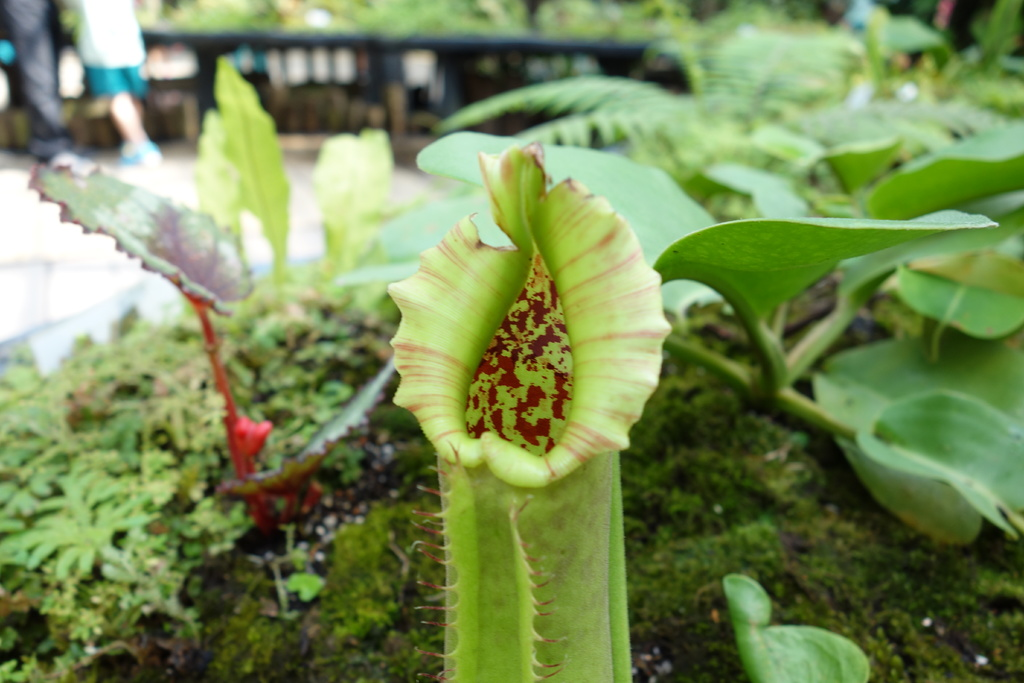Person: (69, 0, 162, 168)
